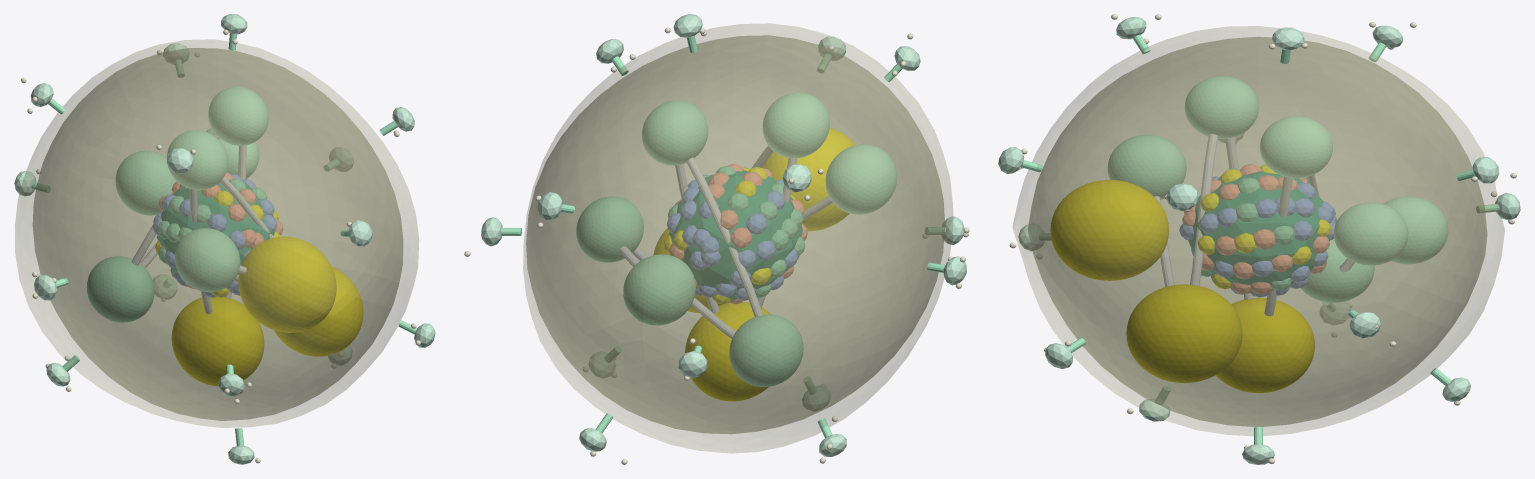
Rendered from mutante_ab371720_1_monkeypox_virus_d10l_gene_for_hypothetical_protein_complete_cds_clone_monkey_8280297.glb.
3 renders of one model, left to right at view 1: azimuth 30°, elevation 25°; view 2: azimuth 150°, elevation 25°; view 3: azimuth 270°, elevation 25°, orthographic. The views are drawn at different scales.
Visible parts, largest first — view 1: geometry_0, geometry_1, geometry_96, geometry_100, geometry_102, geometry_97, geometry_98, geometry_104, geometry_101, geometry_99, geometry_2, geometry_103 (+14 smaller); view 2: geometry_0, geometry_1, geometry_2, geometry_102, geometry_104, geometry_97, geometry_100, geometry_99, geometry_103, geometry_101, geometry_96, geometry_336 (+13 smaller); view 3: geometry_0, geometry_1, geometry_96, geometry_98, geometry_100, geometry_2, geometry_103, geometry_99, geometry_101, geometry_97, geometry_104, geometry_102 (+14 smaller).
Part boxes in pixels (x1=…): geometry_0: x1=15, y1=39, x2=418, y2=427; geometry_1: x1=32, y1=48, x2=403, y2=420; geometry_96: x1=238, y1=236, x2=336, y2=332; geometry_100: x1=171, y1=296, x2=264, y2=386; geometry_102: x1=86, y1=256, x2=154, y2=322; geometry_97: x1=175, y1=228, x2=240, y2=292; geometry_98: x1=274, y1=267, x2=363, y2=356; geometry_104: x1=115, y1=150, x2=176, y2=215; geometry_101: x1=208, y1=86, x2=268, y2=145; geometry_99: x1=166, y1=130, x2=228, y2=190; geometry_2: x1=158, y1=181, x2=276, y2=290; geometry_103: x1=206, y1=127, x2=259, y2=178; geometry_0: x1=523, y1=23, x2=952, y2=453; geometry_1: x1=526, y1=35, x2=945, y2=434; geometry_2: x1=669, y1=170, x2=802, y2=299; geometry_102: x1=729, y1=314, x2=803, y2=387; geometry_104: x1=623, y1=254, x2=695, y2=325; geometry_97: x1=825, y1=144, x2=897, y2=214; geometry_100: x1=685, y1=302, x2=771, y2=401; geometry_99: x1=762, y1=92, x2=829, y2=158; geometry_103: x1=576, y1=196, x2=643, y2=262; geometry_101: x1=642, y1=100, x2=708, y2=165; geometry_96: x1=762, y1=128, x2=854, y2=231; geometry_336: x1=537, y1=192, x2=574, y2=220; geometry_0: x1=1012, y1=26, x2=1504, y2=435; geometry_1: x1=1027, y1=36, x2=1487, y2=426; geometry_96: x1=1050, y1=179, x2=1169, y2=280; geometry_98: x1=1126, y1=284, x2=1242, y2=382; geometry_100: x1=1216, y1=297, x2=1314, y2=392; geometry_2: x1=1188, y1=171, x2=1329, y2=291; geometry_103: x1=1333, y1=202, x2=1408, y2=265; geometry_99: x1=1184, y1=76, x2=1258, y2=138; geometry_101: x1=1260, y1=116, x2=1332, y2=178; geometry_97: x1=1107, y1=134, x2=1186, y2=199; geometry_104: x1=1383, y1=196, x2=1448, y2=264; geometry_102: x1=1300, y1=239, x2=1374, y2=302.
Bounding box in the file's own units: 13.9 × 13.55 × 15.29.
